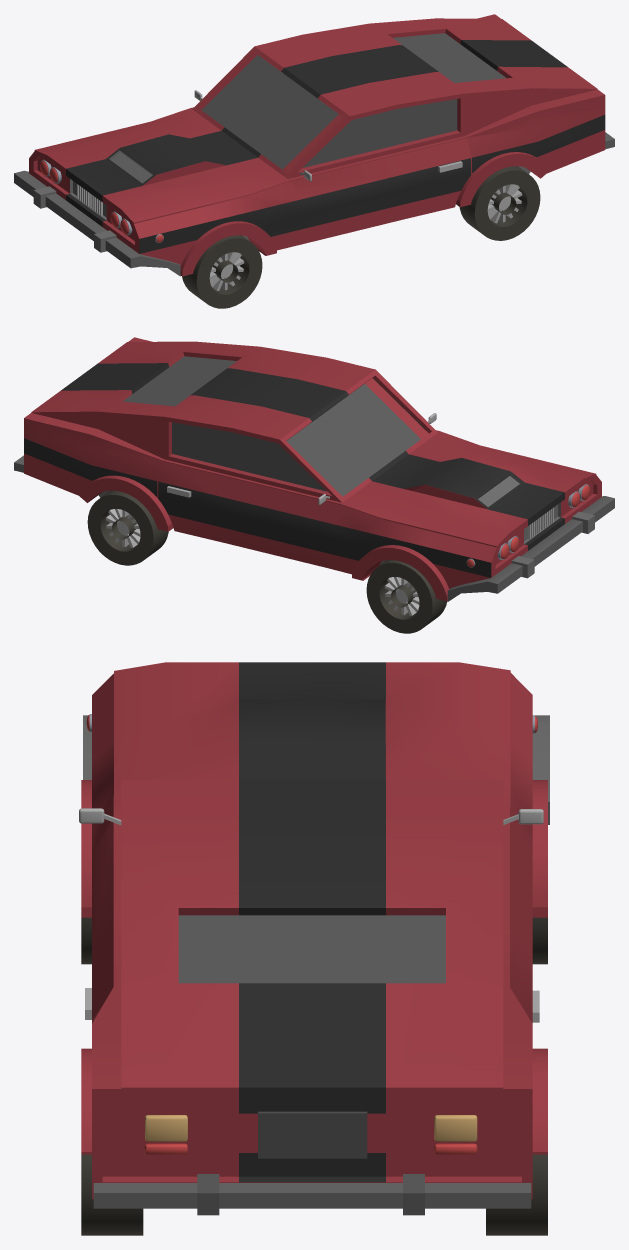
The model's file is Car08.fbx.
The picture shows the model from 3 angles, top to bottom: view 1: azimuth 30°, elevation 25°; view 2: azimuth 150°, elevation 25°; view 3: azimuth 270°, elevation 25°; orthographic projection. The views are drawn at different scales.
Visible parts, largest first — view 1: Car12; view 2: Car12; view 3: Car12.
Part boxes in pixels (x1,y1,x2,y2): Car12: [14, 14, 614, 308]; Car12: [14, 337, 614, 633]; Car12: [79, 662, 549, 1235].
Size of the model in its own units: 23.4 by 6.88 by 9.63.
